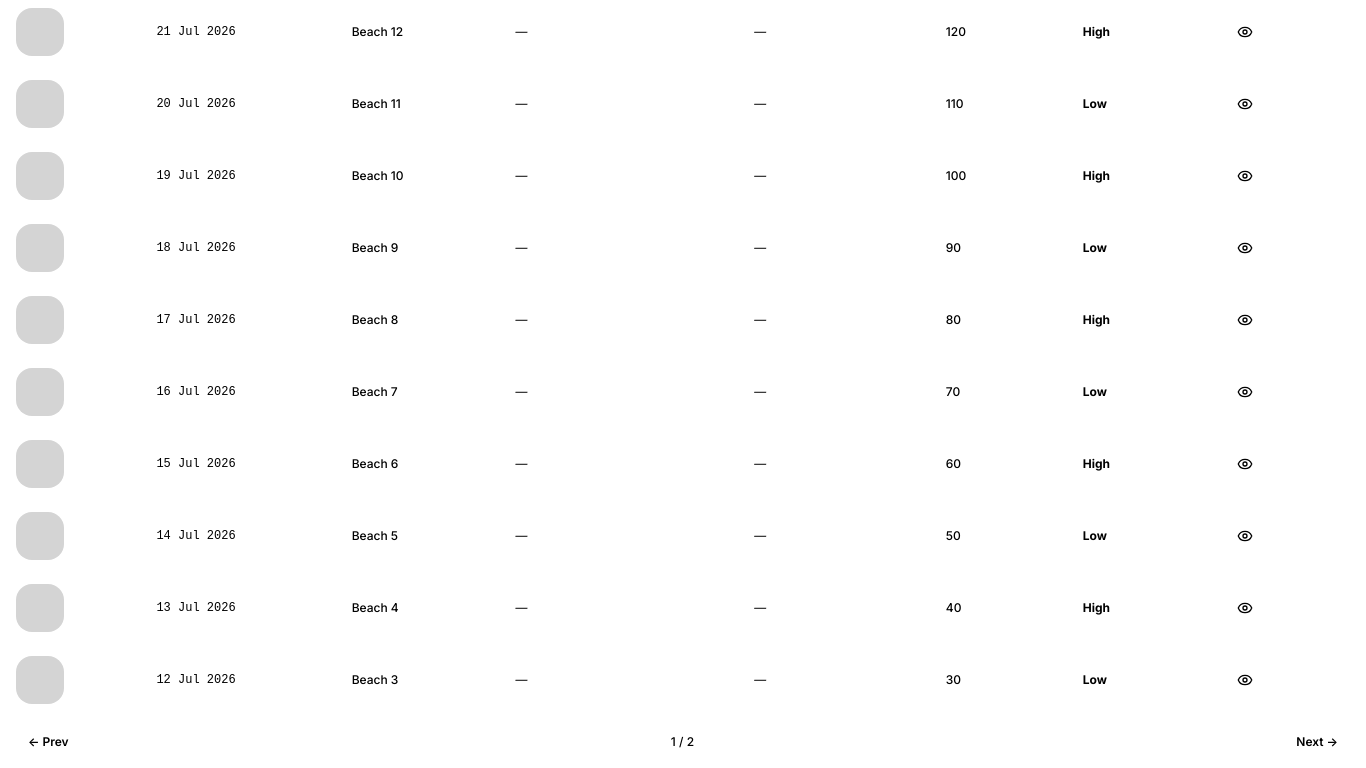
Test: HistoryTable — sorting › resets to page 1 when sort changes
The image size is (1366, 768).
(page scrolled)
Click the button "Next →": (1317, 742) [1284, 728, 1350, 756]
(page scrolled)
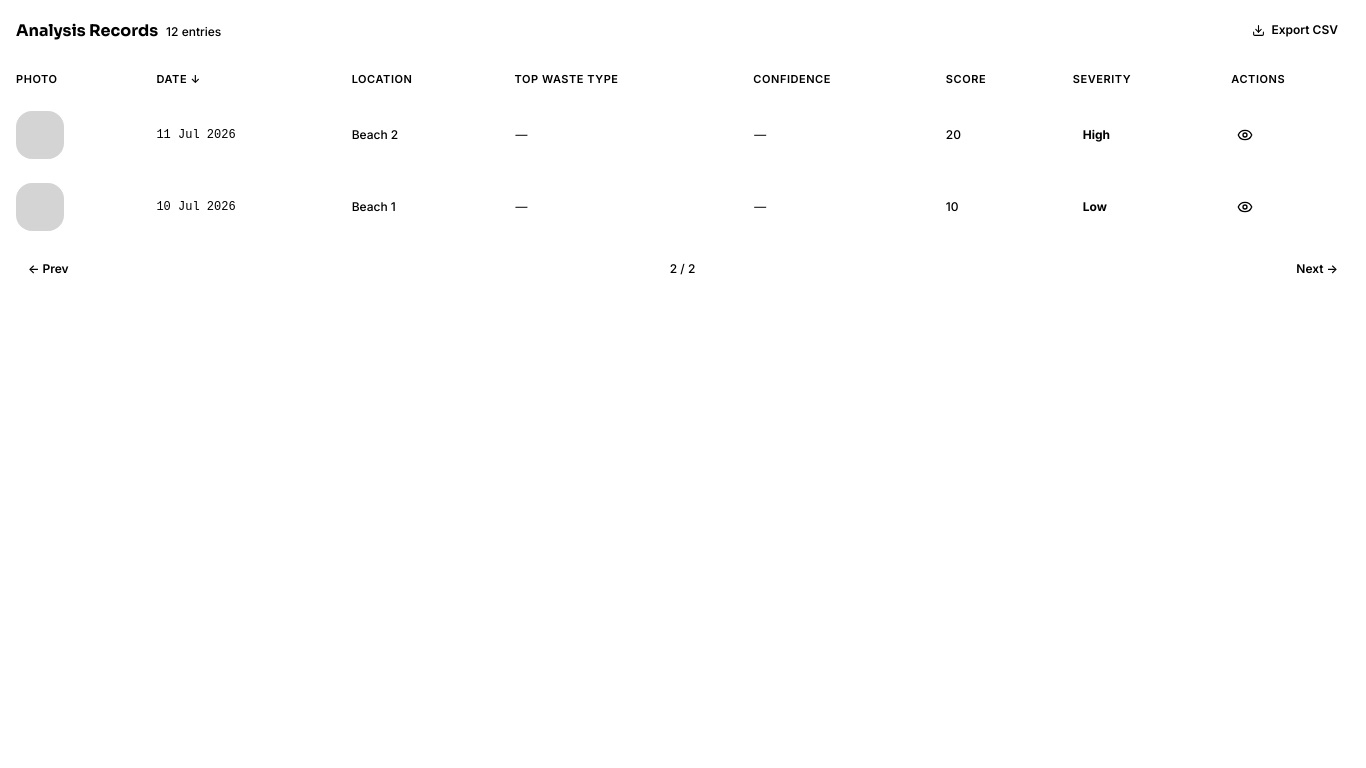
Expected: the text "2 / 2" is shown, [670, 261, 695, 277]
Click the column heading "Score": (966, 79) [930, 60, 1057, 99]
(page scrolled)
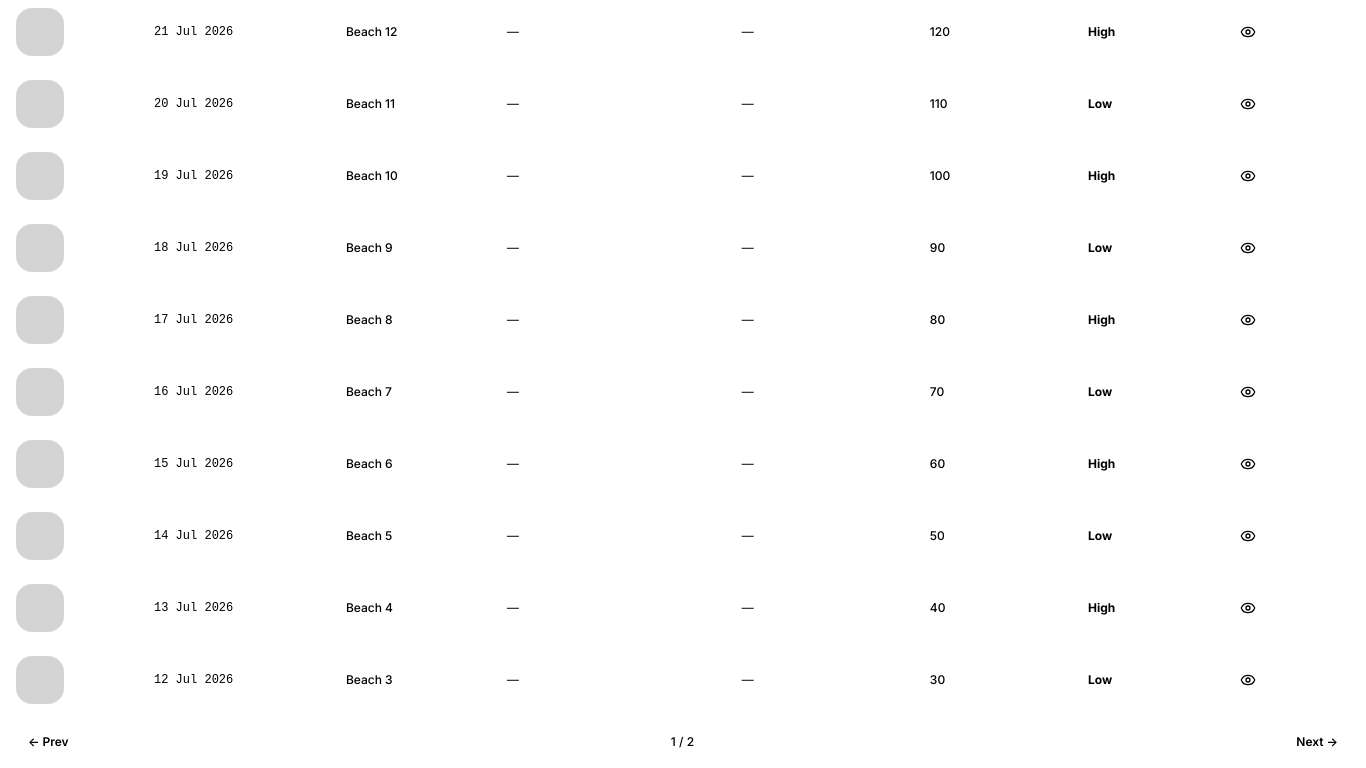
Expected: the text "1 / 2" is shown, [671, 734, 694, 750]
